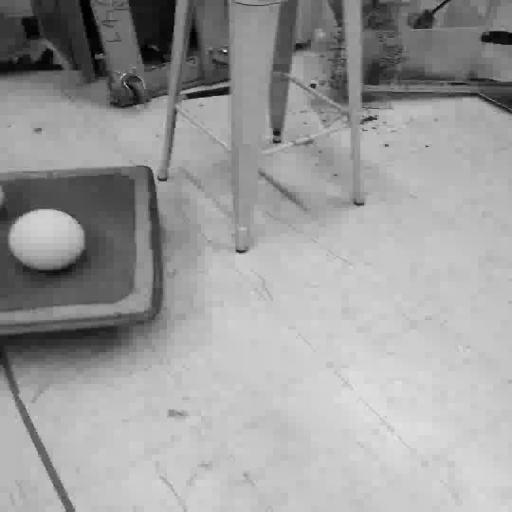fuel: (9, 209, 85, 271), (0, 186, 4, 208)
